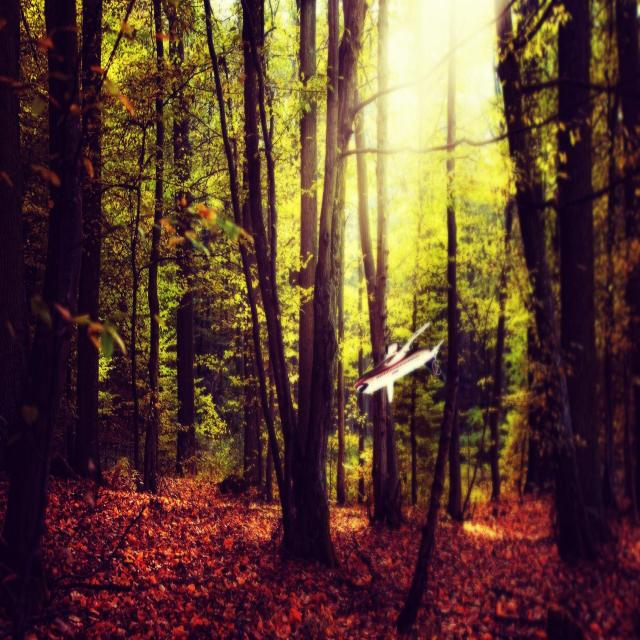airplane: (354, 321, 444, 403)
